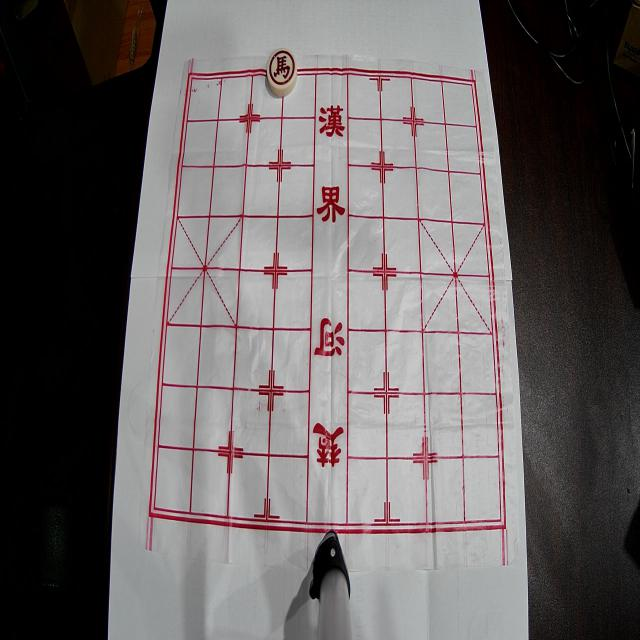red-horse: (267, 48, 297, 96)
